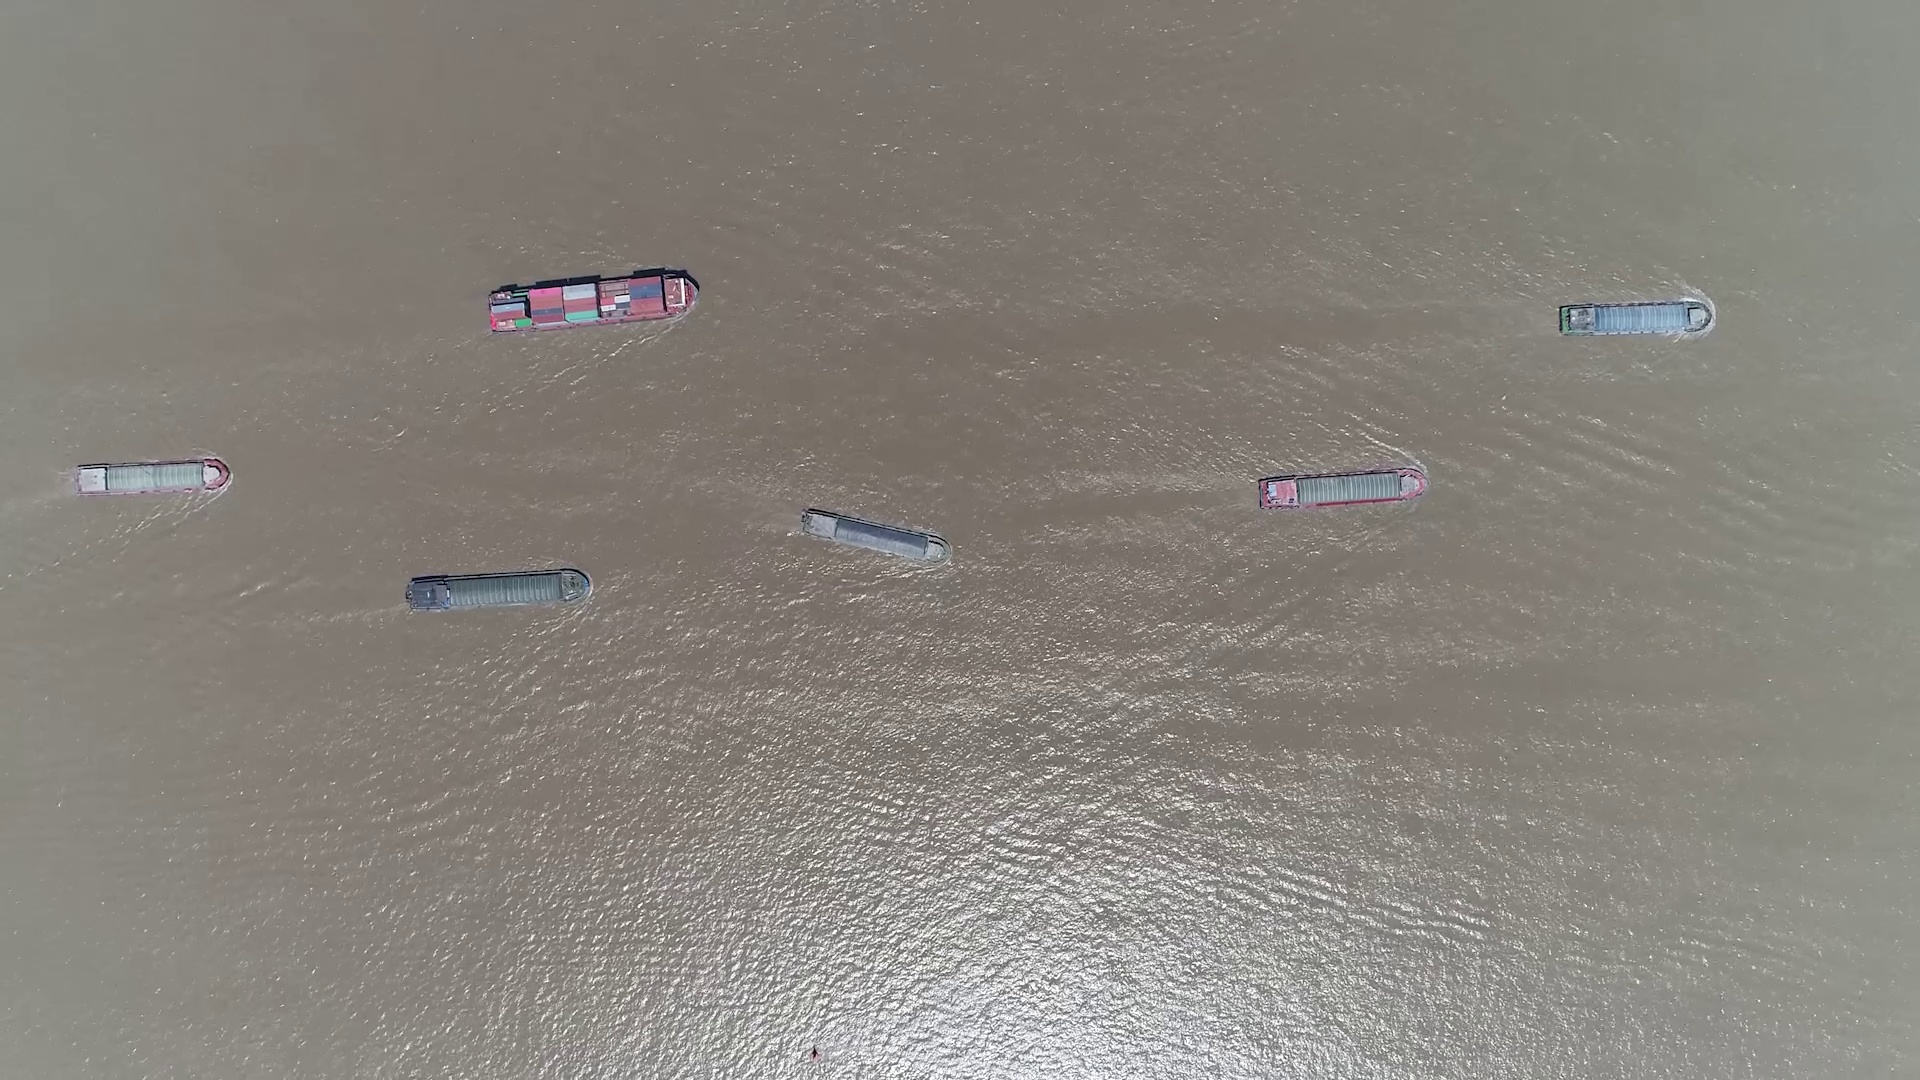ship: (488, 273, 699, 334), (798, 508, 948, 562), (406, 568, 589, 611), (1261, 468, 1428, 510), (73, 460, 225, 496), (1559, 302, 1712, 336)
